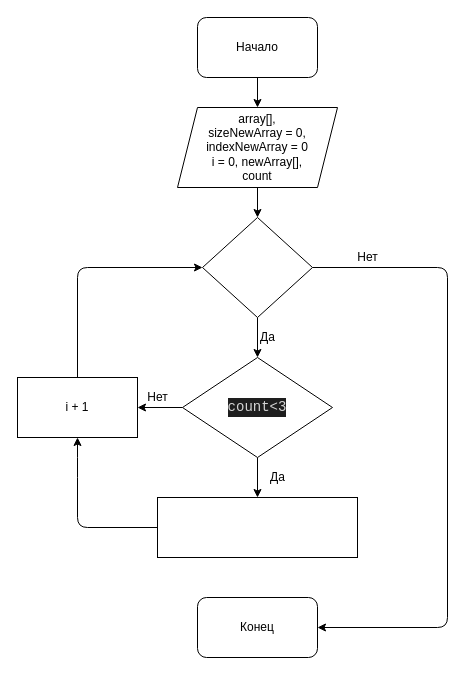
This 473x675 diagram has some shape labels left out. The centre of each missing label's shape, as x and y in pixels:
"i<array.Length" belongs at (x=257, y=267).
"sizeNewArray+1 newArray[indexNewArray]=array[i] indexNewArray + 1" belongs at (x=257, y=527).
